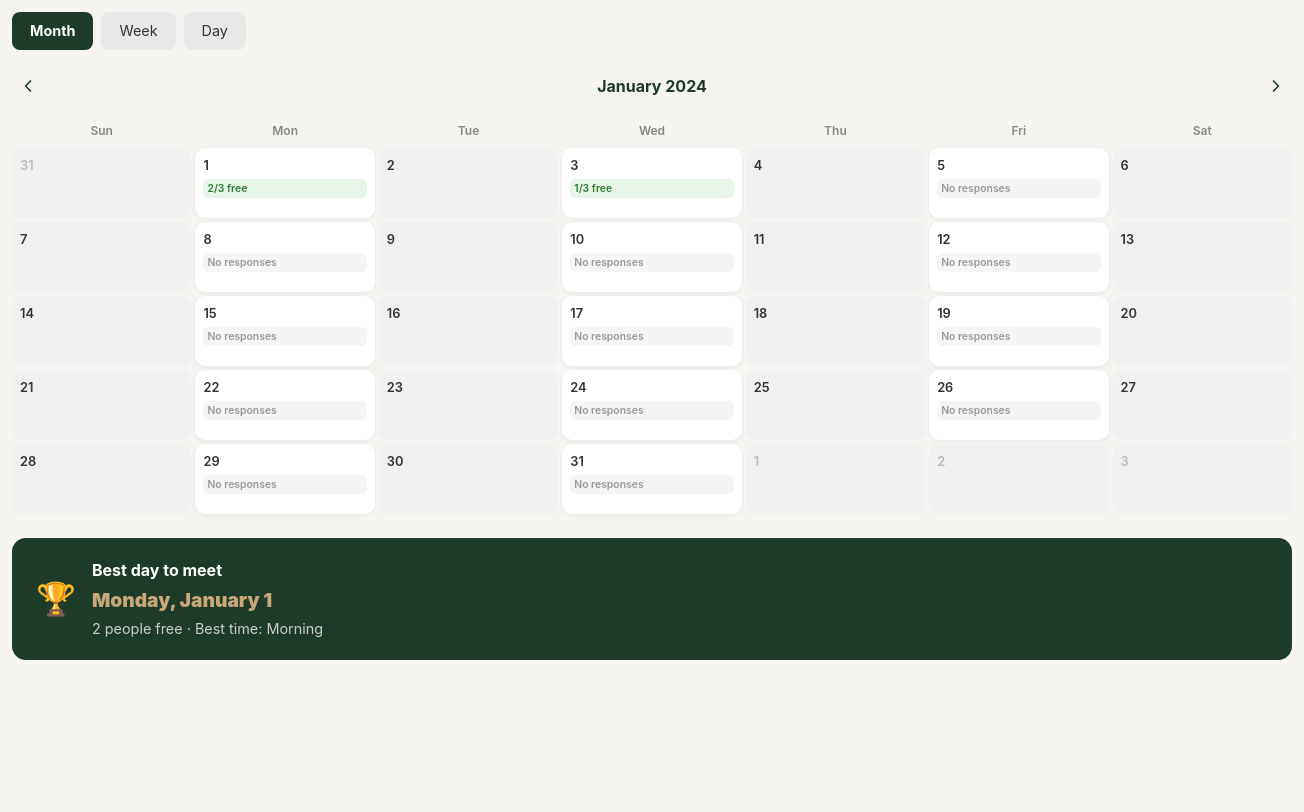
Test case: CalendarView › switches to day view when Day button is clicked
This screenshot has width=1304, height=812.
Click the button "Day".
click(215, 31)  # box [184,12,246,50]
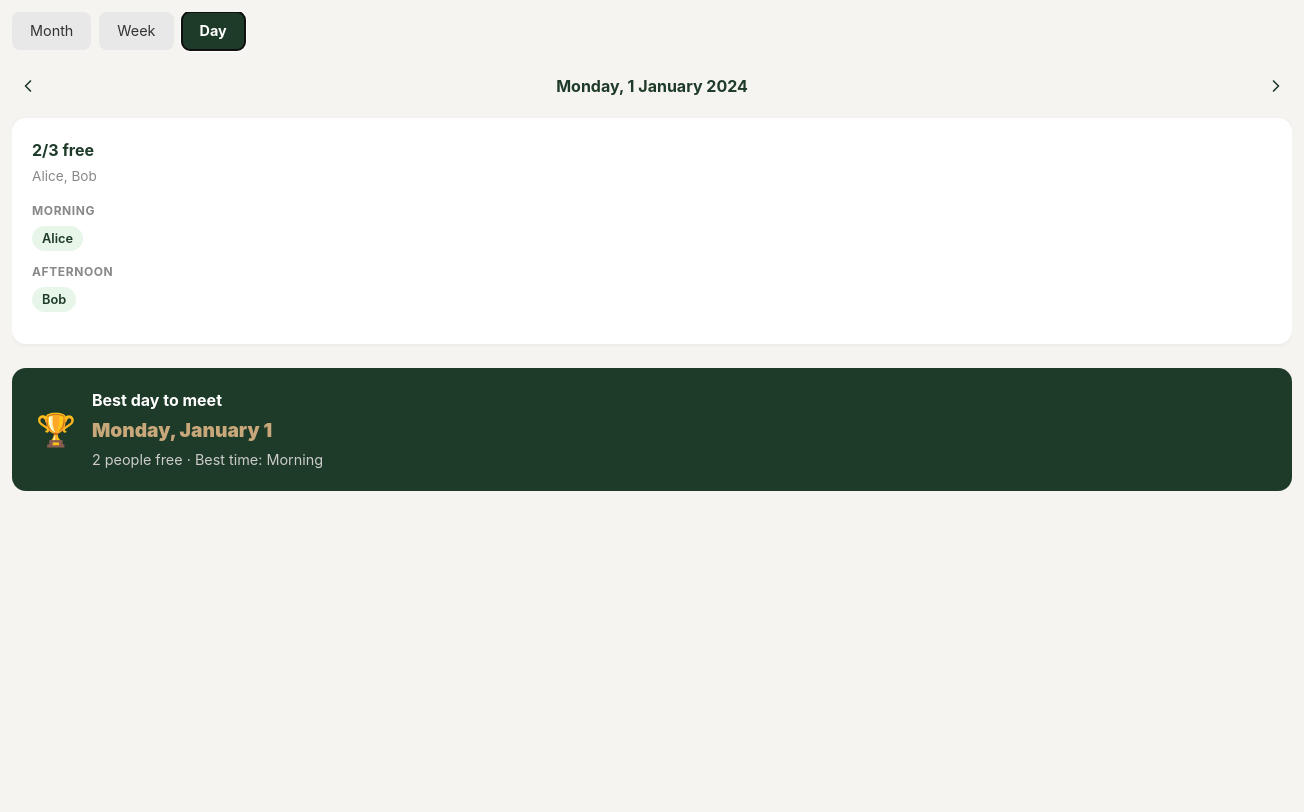
Expected: the heading "Monday, 1 January 2024" is shown, [556,74,748,98]
